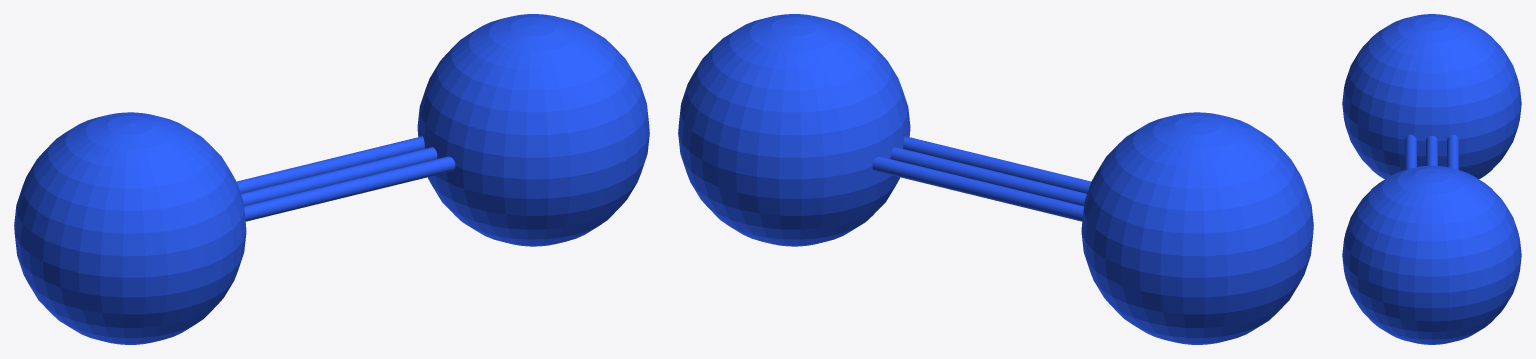
Rendered from nitrogen.fbx.
3 renders of one model, left to right at view 1: azimuth 30°, elevation 25°; view 2: azimuth 150°, elevation 25°; view 3: azimuth 270°, elevation 25°, orthographic. The views are drawn at different scales.
Parts seen in each view (by area): view 1: nitrogen; view 2: nitrogen; view 3: nitrogen.
Part boxes in pixels (x1,y1,x2,y2): nitrogen: (14, 14, 649, 344); nitrogen: (678, 14, 1313, 344); nitrogen: (1342, 14, 1521, 344).
Size of the model in its own units: 108 by 36 by 36.
